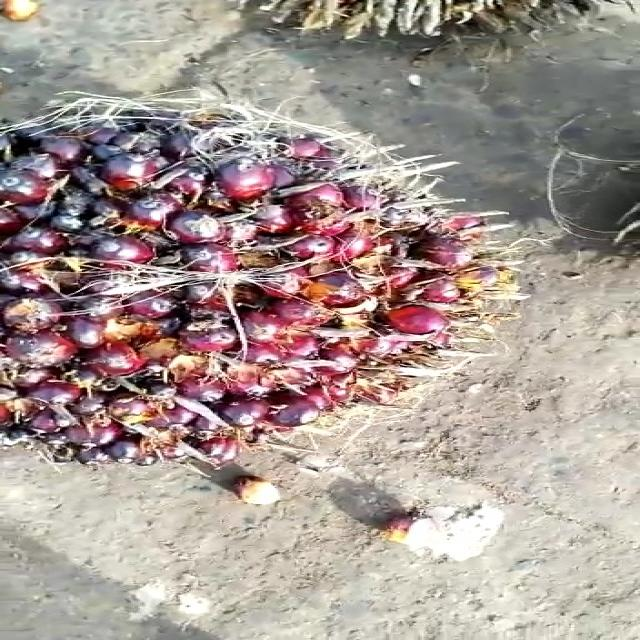palm oil: (0, 82, 524, 473)
